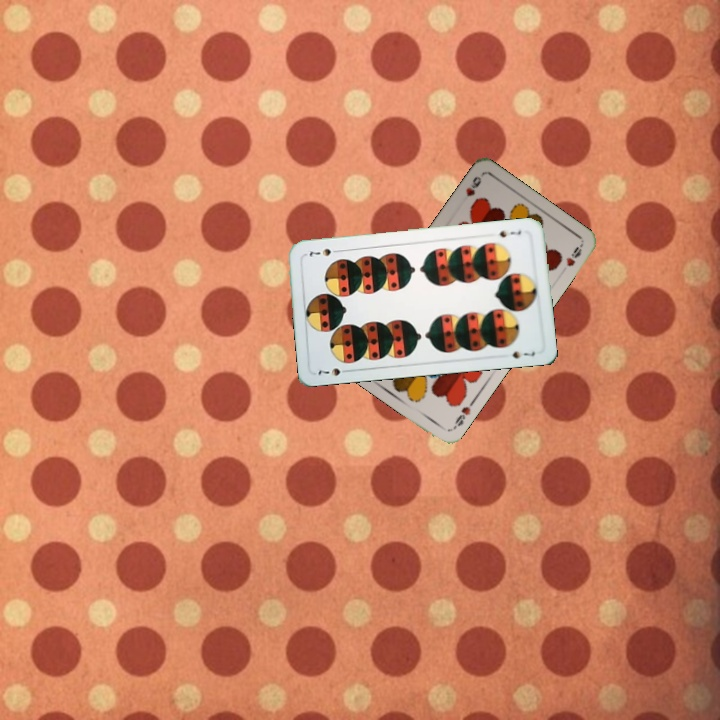H9: (449, 396, 477, 432), (462, 172, 484, 199)
S7: (314, 364, 353, 378), (495, 226, 524, 240)
